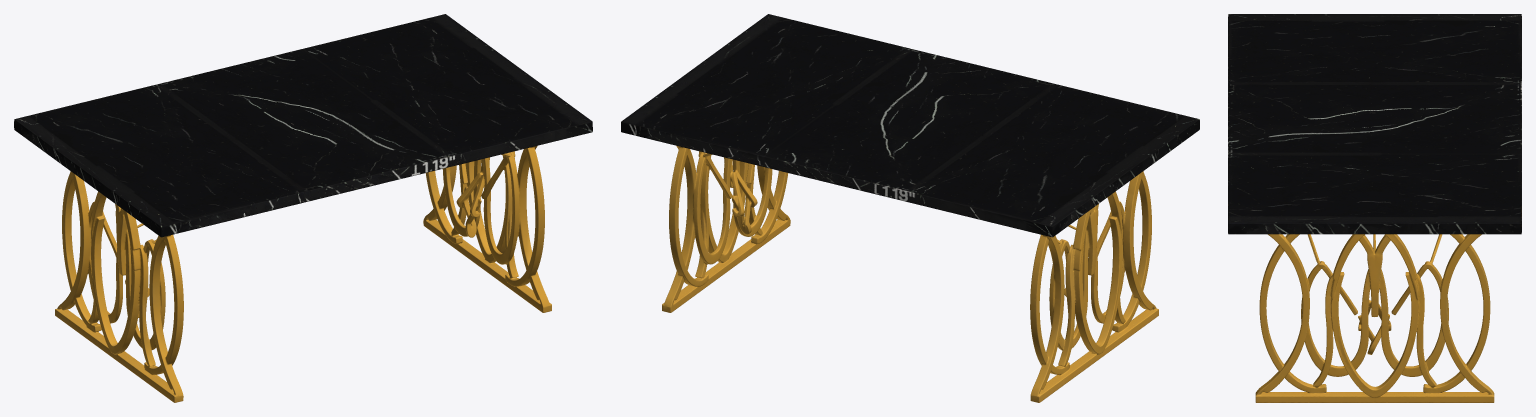
The model's file is 4-6-seat-rectangular-black-faux-marble-dining-table-with-gold-legs.glb.
3 views of the same model, side by side, from view 1: azimuth 30°, elevation 25°; view 2: azimuth 150°, elevation 25°; view 3: azimuth 270°, elevation 25° (orthographic).
Parts seen in each view (by area): view 1: Mesh_0; view 2: Mesh_0; view 3: Mesh_0.
Boxes of the visible parts, x1,y1,x2,y2 form: Mesh_0: (14,14,592,402); Mesh_0: (621,14,1199,402); Mesh_0: (1228,14,1521,402).
Bounding box in the file's own units: 1.6 × 0.6845 × 0.9461.
Materials: 1 (1 with a texture image).
